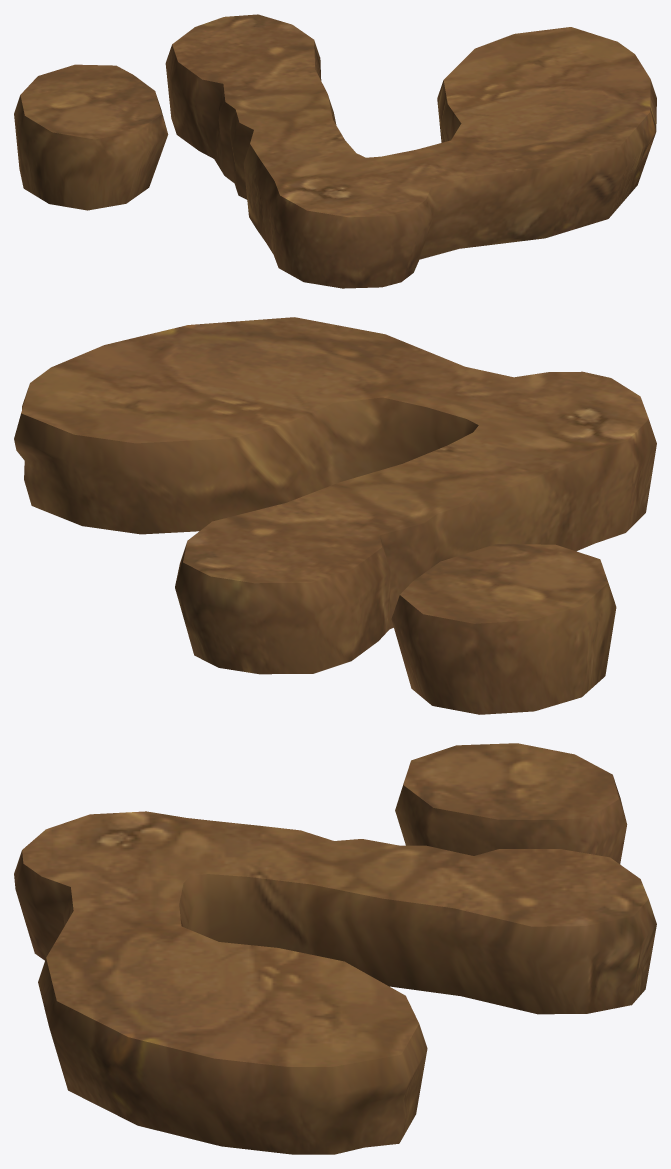
File: dimian.FBX
3 renders of one model, top to bottom at view 1: azimuth 30°, elevation 25°; view 2: azimuth 150°, elevation 25°; view 3: azimuth 270°, elevation 25°, orthographic. The views are drawn at different scales.
Parts seen in each view (by area): view 1: dimian; view 2: dimian; view 3: dimian.
Part boxes in pixels (x1,y1,x2,y2): dimian: (14,14,656,288); dimian: (14,317,656,714); dimian: (14,743,656,1154).
Size of the model in its own units: 3339 by 442 by 2743.
